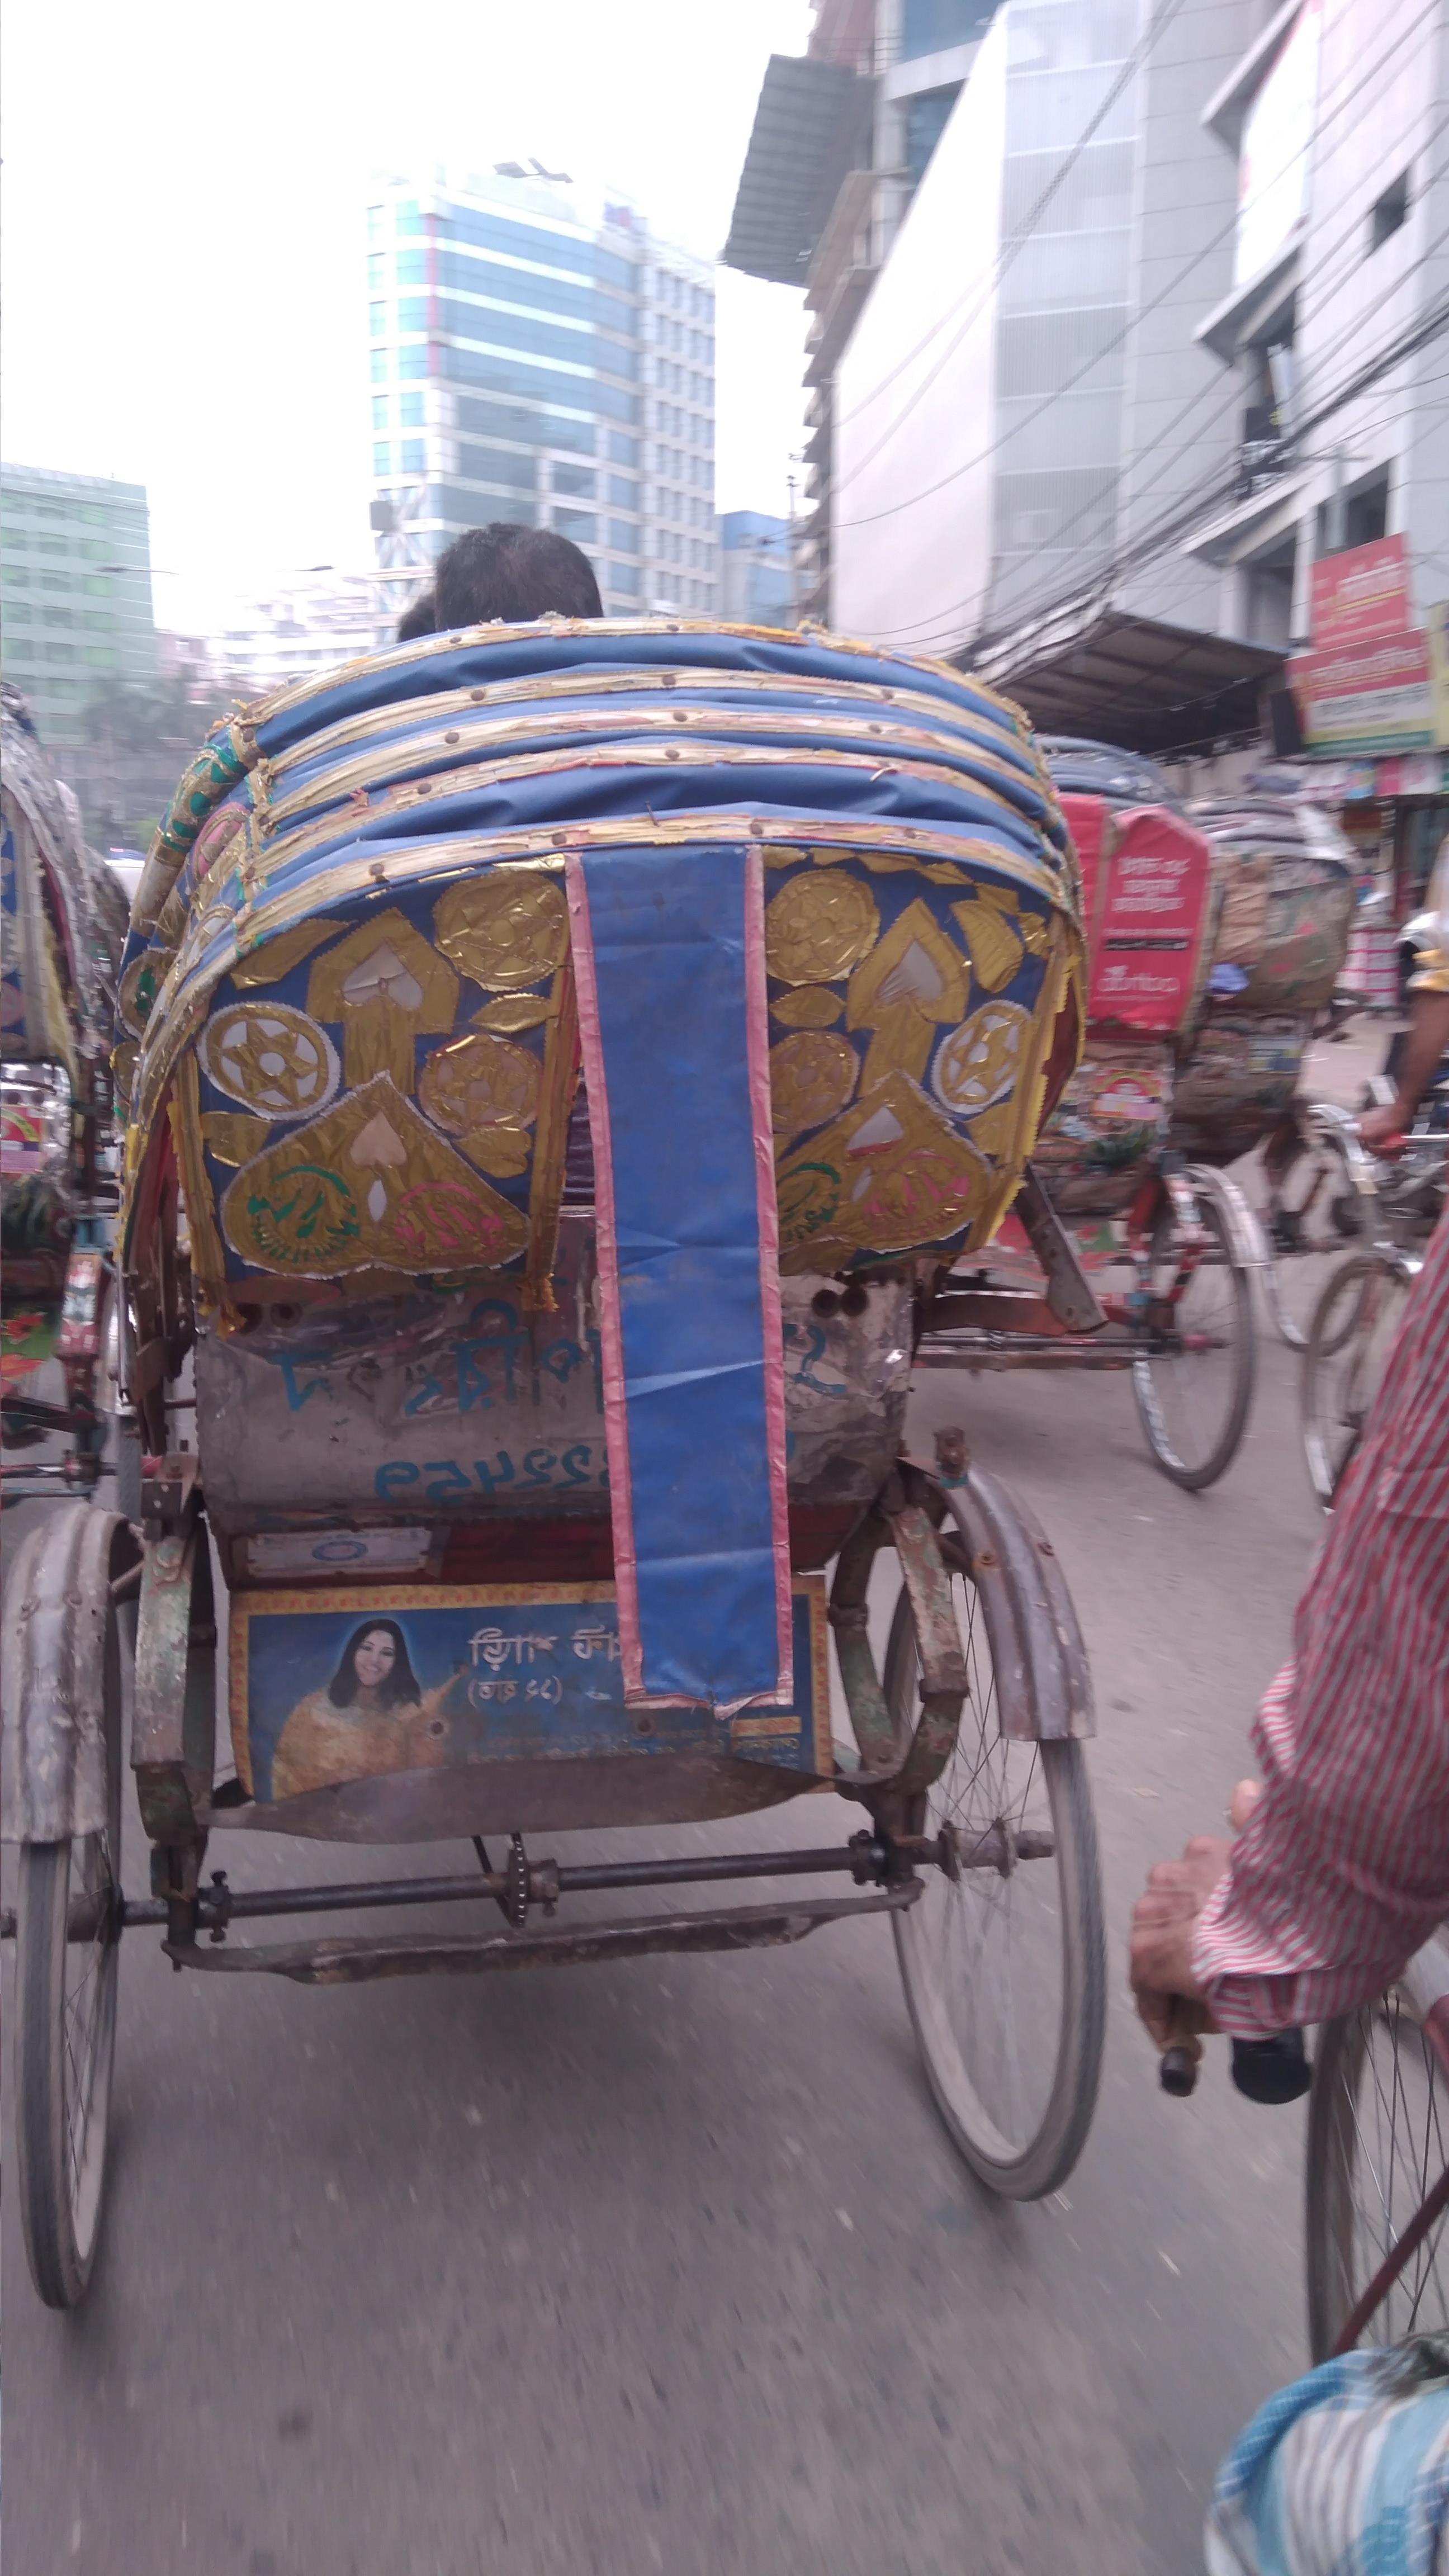Rickshaw: (74, 640, 1122, 2224), (973, 651, 1304, 1488), (1194, 757, 1412, 1267)
